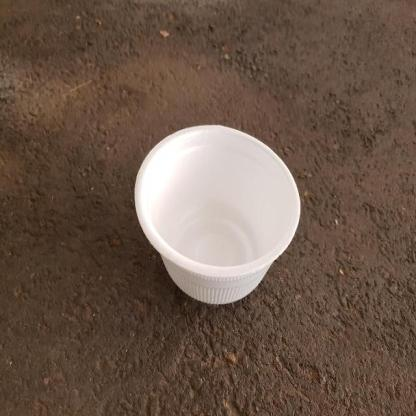Glass Cup: (132, 123, 302, 307), (134, 125, 301, 304)
